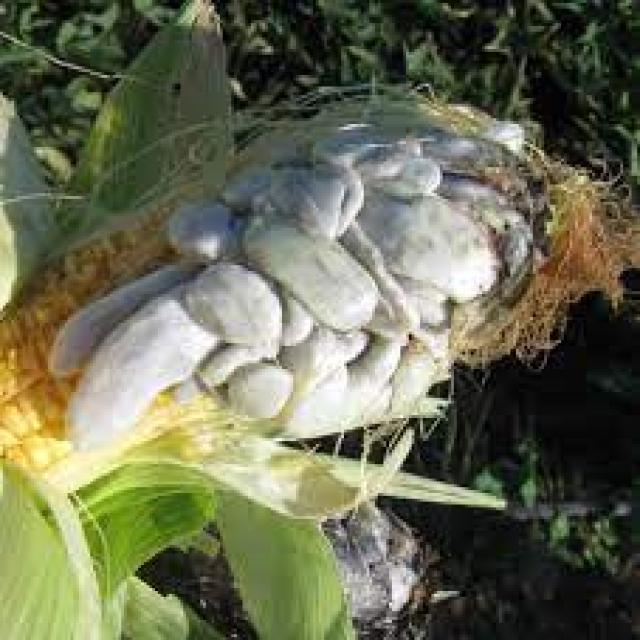Leaf_Scald: (5, 50, 620, 561)
